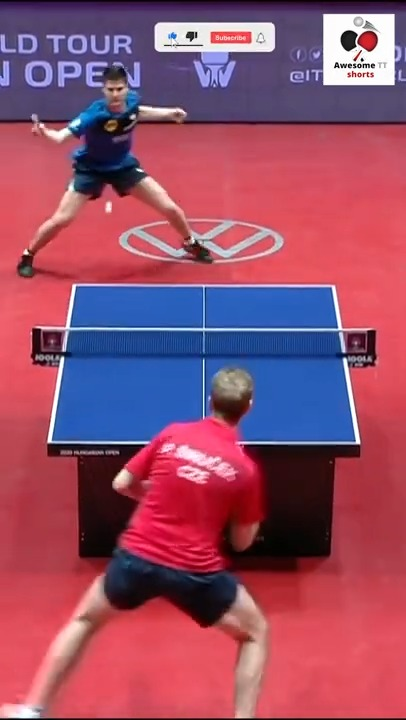Ball: (103, 203, 114, 214)
